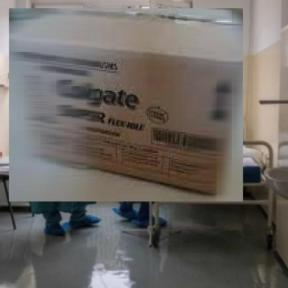box: (5, 5, 248, 205)
